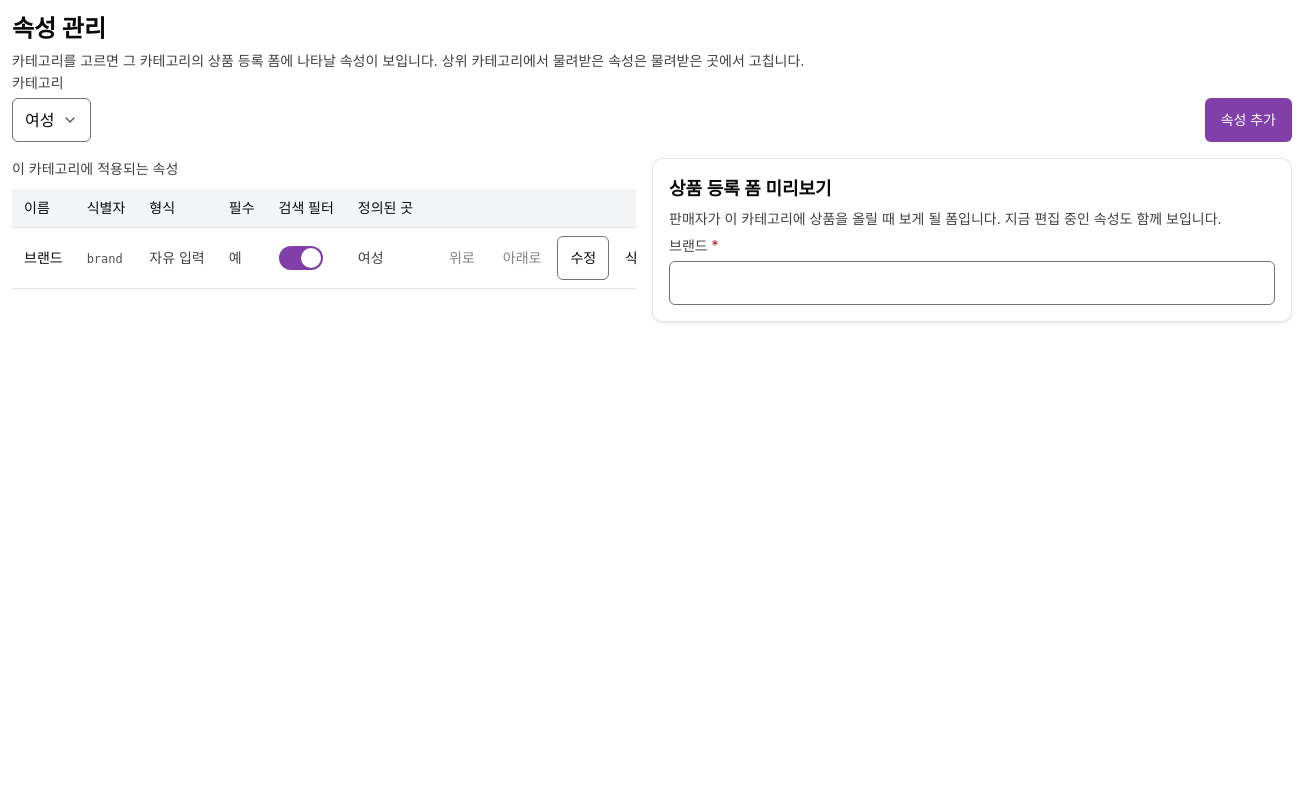
inheritance is visible on the row it applies to (F1) › shows ancestors’ definitions first, naming where each comes from
This screenshot has width=1304, height=812.
What coordinates should you click on to do the following:
click the dropdown named "카테고리"
I would click on:
 (52, 120)
Its box is [12,98,92,142].
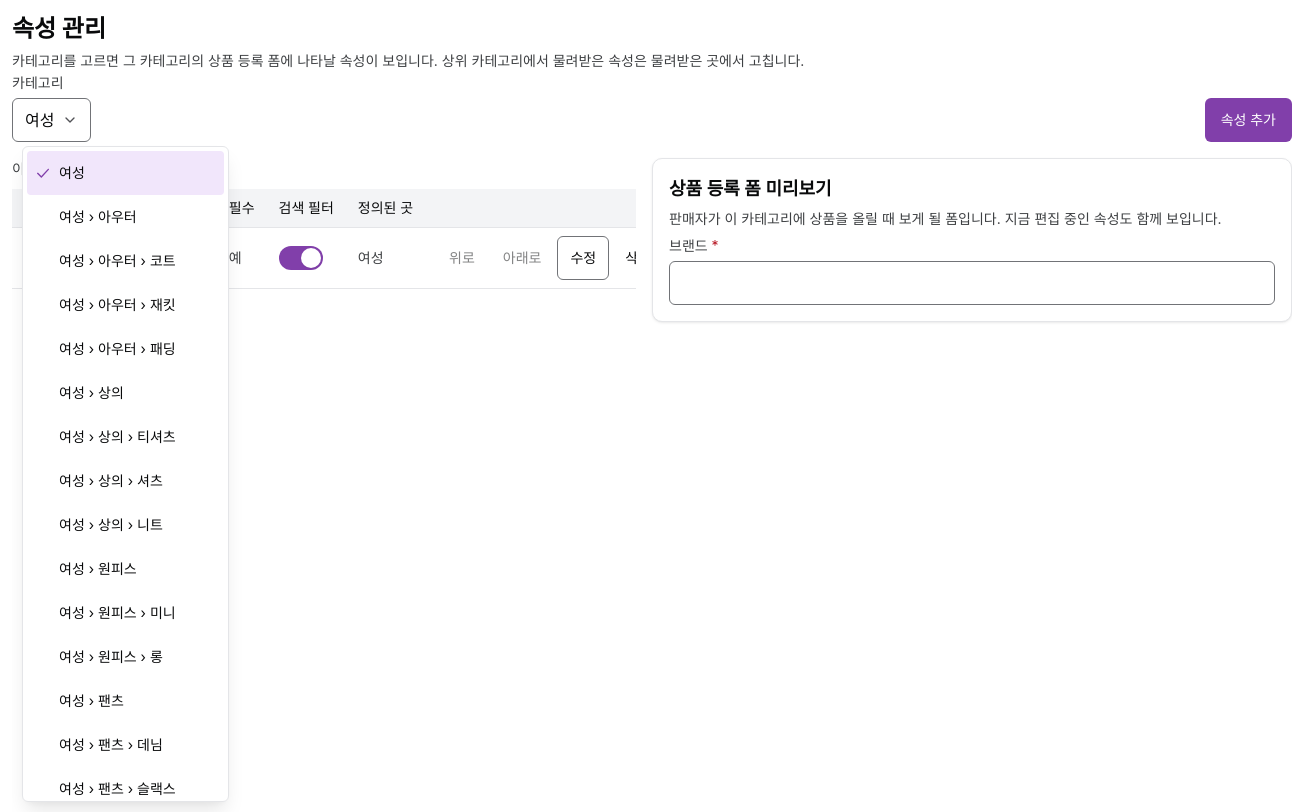
What coordinates should you click on to do the following:
click the option "여성 › 아우터 › 코트"
I would click on:
 (117, 260)
Its box is [59,252,176,269].
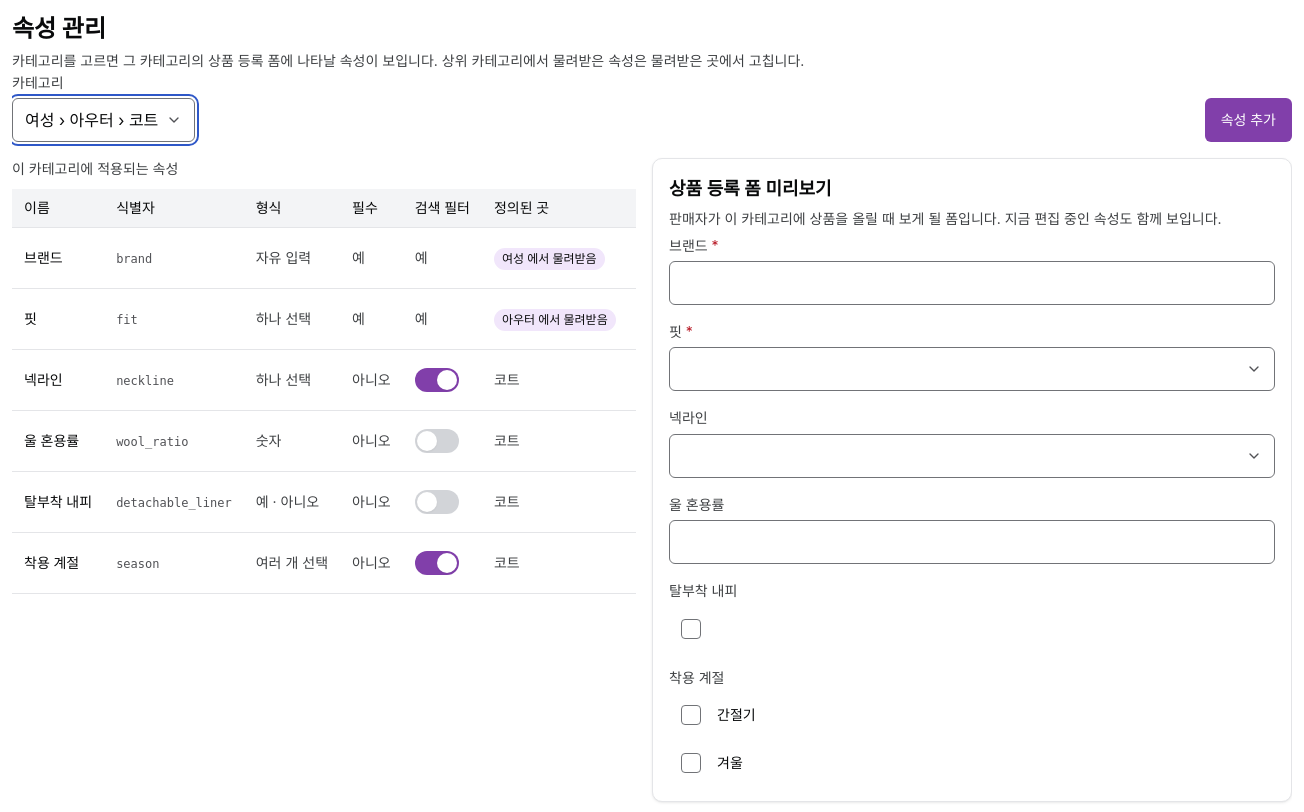
Check: the text "여성 에서 물려받음" is shown, box [494,248,605,270]
Check: the text "아우터 에서 물려받음" is shown, box [494,309,616,331]
